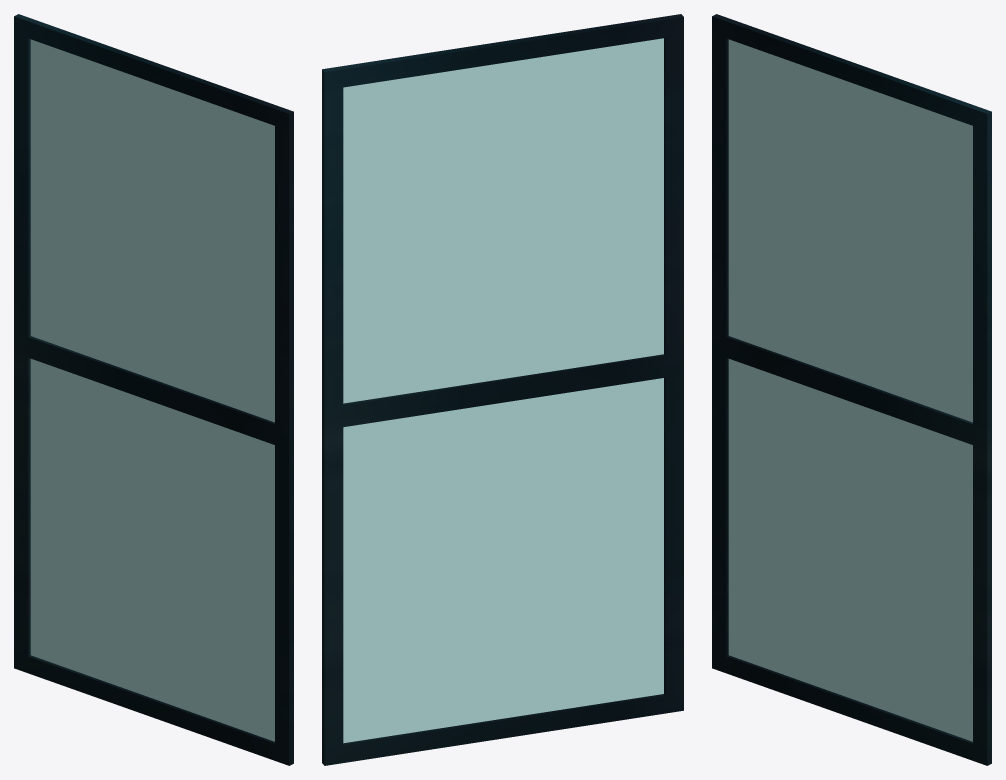
The picture shows the model from 3 angles, left to right: view 1: azimuth 90°, elevation 25°; view 2: azimuth 150°, elevation 25°; view 3: azimuth 270°, elevation 25°; orthographic projection. The views are drawn at different scales.
Parts seen in each view (by area): view 1: Plane026_glass_0, Plane025_door3_0; view 2: Plane026_glass_0, Plane025_door3_0; view 3: Plane026_glass_0, Plane025_door3_0.
Part boxes in pixels (x1=…): Plane026_glass_0: x1=30, y1=39, x2=274, y2=741; Plane025_door3_0: x1=14, y1=14, x2=293, y2=765; Plane026_glass_0: x1=343, y1=38, x2=663, y2=743; Plane025_door3_0: x1=322, y1=14, x2=683, y2=765; Plane026_glass_0: x1=728, y1=39, x2=972, y2=741; Plane025_door3_0: x1=712, y1=14, x2=991, y2=765.
Size of the model in its own units: 0.6558 by 1.99 by 0.7762.
Materials: 2 (1 with a texture image).
